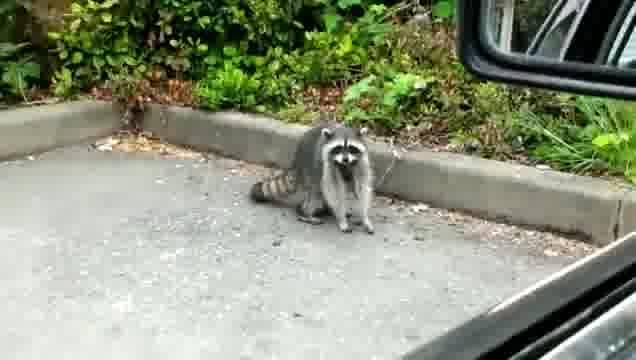raccoon: (249, 120, 383, 240)
